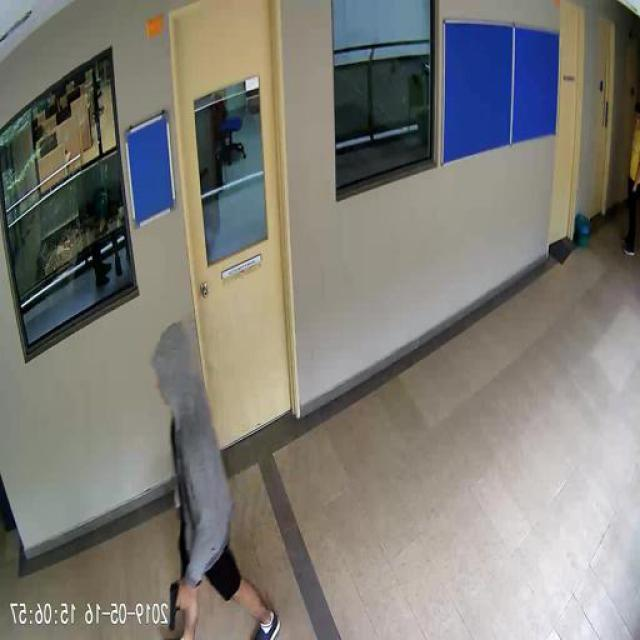Gun: (171, 579, 195, 629)
